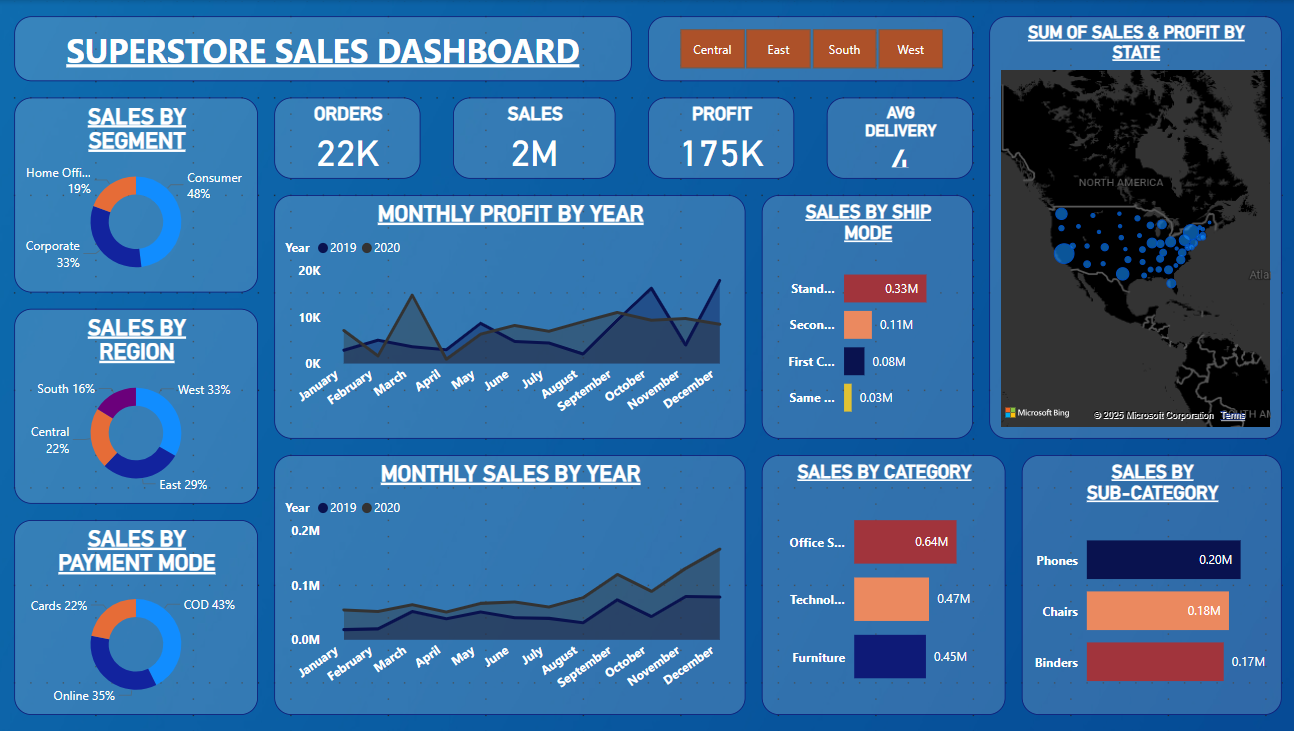

The dashboard page shown, as its layout file describes it:
{"tool":"powerbi","page":{"name":"Sales Dashboard","canvas":[1280,720],"ordinal":0},"visuals":[{"type":"clusteredBarChart","title":"SALES BY CATEGORY","fields":{"Category":["SuperStore_Sales_Dataset.Category"],"Y":["Sum(SuperStore_Sales_Dataset.Sales)"]},"box":[752,448,240,256],"z":0},{"type":"clusteredBarChart","title":"SALES BY SUB-CATEGORY","fields":{"Category":["SuperStore_Sales_Dataset.Sub-Category"],"Y":["Sum(SuperStore_Sales_Dataset.Sales)"]},"box":[1008,448,256,256],"z":1000},{"type":"clusteredBarChart","title":"SALES BY SHIP MODE","fields":{"Category":["SuperStore_Sales_Dataset.Ship Mode"],"Y":["Sum(SuperStore_Sales_Dataset.Sales)"]},"box":[752,192,208,240],"z":2000},{"type":"areaChart","title":"MONTHLY SALES BY YEAR","fields":{"Y":["Sum(SuperStore_Sales_Dataset.Sales)"],"Category":["SuperStore_Sales_Dataset.Order Date.Variation.Date Hierarchy.Month","SuperStore_Sales_Dataset.Order Date.Variation.Date Hierarchy.Day"],"Series":["SuperStore_Sales_Dataset.Order Date.Variation.Date Hierarchy.Year"]},"box":[272,448,464,256],"z":3000},{"type":"areaChart","title":"MONTHLY PROFIT BY YEAR","fields":{"Category":["SuperStore_Sales_Dataset.Order Date.Variation.Date Hierarchy.Month","SuperStore_Sales_Dataset.Order Date.Variation.Date Hierarchy.Day"],"Series":["SuperStore_Sales_Dataset.Order Date.Variation.Date Hierarchy.Year"],"Y":["Sum(SuperStore_Sales_Dataset.Profit)"]},"box":[272,192,464,240],"z":4000},{"type":"map","title":"SUM OF SALES & PROFIT BY STATE","fields":{"Category":["SuperStore_Sales_Dataset.State"],"Size":["Sum(SuperStore_Sales_Dataset.Sales)"]},"box":[976,16,288,416],"z":5000},{"type":"donutChart","title":"SALES BY SEGMENT","fields":{"Category":["SuperStore_Sales_Dataset.Segment"],"Y":["Sum(SuperStore_Sales_Dataset.Sales)"]},"box":[16,96,240,192],"z":6000},{"type":"donutChart","title":"SALES BY PAYMENT MODE","fields":{"Category":["SuperStore_Sales_Dataset.Payment Mode"],"Y":["Sum(SuperStore_Sales_Dataset.Sales)"]},"box":[16,512,240,192],"z":7000},{"type":"slicer","fields":{"Values":["SuperStore_Sales_Dataset.Region"]},"box":[640,16,320,64],"z":8000},{"type":"textbox","box":[16,16,608,64],"z":9000},{"type":"card","title":"SALES","fields":{"Values":["Sum(SuperStore_Sales_Dataset.Sales)"]},"box":[448,96,160,80],"z":10000},{"type":"card","title":"PROFIT","fields":{"Values":["Sum(SuperStore_Sales_Dataset.Profit)"]},"box":[640,96,144,80],"z":11000},{"type":"card","title":"ORDERS","fields":{"Values":["Sum(SuperStore_Sales_Dataset.Quantity)"]},"box":[272,96,144,80],"z":12000},{"type":"card","title":"AVG DELIVERY","fields":{"Values":["Avg(SuperStore_Sales_Dataset.AvgDelivery)"]},"box":[816,96,144,80],"z":13000},{"type":"donutChart","title":"SALES BY REGION","fields":{"Y":["Sum(SuperStore_Sales_Dataset.Sales)"],"Category":["SuperStore_Sales_Dataset.Region"]},"box":[16,304,240,192],"z":13001}]}

Visuals, with their boxes in screenshot pixels (x1, y1, x2, y2), scaled from the page's 1280x720 canvas onto the 1294x731 screenshot:
"SALES BY CATEGORY" clusteredBarChart: [x1=760, y1=455, x2=1003, y2=715]
"SALES BY SUB-CATEGORY" clusteredBarChart: [x1=1019, y1=455, x2=1278, y2=715]
"SALES BY SHIP MODE" clusteredBarChart: [x1=760, y1=195, x2=970, y2=439]
"MONTHLY SALES BY YEAR" areaChart: [x1=275, y1=455, x2=744, y2=715]
"MONTHLY PROFIT BY YEAR" areaChart: [x1=275, y1=195, x2=744, y2=439]
"SUM OF SALES & PROFIT BY STATE" map: [x1=987, y1=16, x2=1278, y2=439]
"SALES BY SEGMENT" donutChart: [x1=16, y1=97, x2=259, y2=292]
"SALES BY PAYMENT MODE" donutChart: [x1=16, y1=520, x2=259, y2=715]
slicer - SuperStore_Sales_Dataset.Region: [x1=647, y1=16, x2=970, y2=81]
textbox: [x1=16, y1=16, x2=631, y2=81]
"SALES" card: [x1=453, y1=97, x2=615, y2=179]
"PROFIT" card: [x1=647, y1=97, x2=793, y2=179]
"ORDERS" card: [x1=275, y1=97, x2=421, y2=179]
"AVG DELIVERY" card: [x1=825, y1=97, x2=970, y2=179]
"SALES BY REGION" donutChart: [x1=16, y1=309, x2=259, y2=504]
